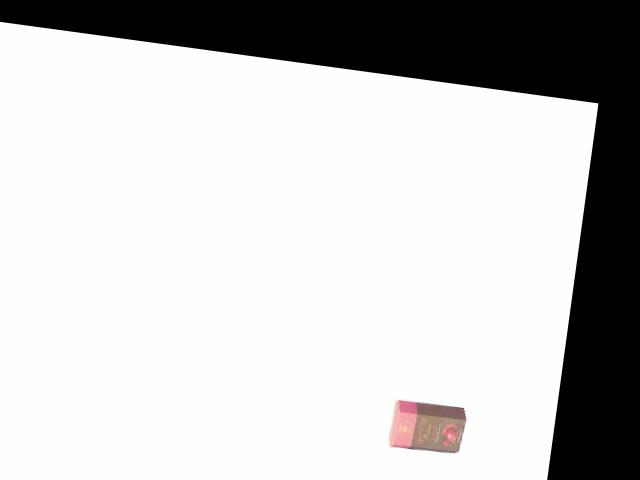chocolate: (385, 396, 474, 458)
